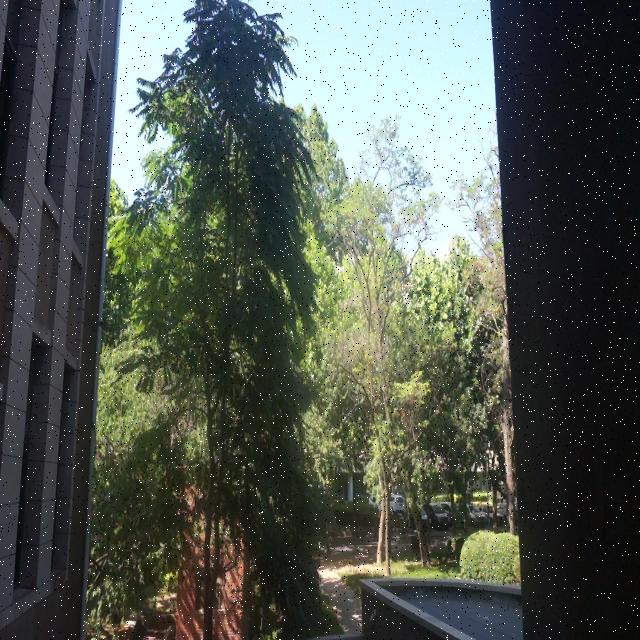UAV: (96, 321, 106, 328)
